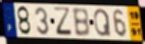3: (34, 6, 51, 36)
6: (112, 9, 128, 39)
8: (16, 5, 32, 36)
B: (71, 7, 91, 38)
Q: (93, 8, 113, 38)
Z: (52, 7, 74, 38)
